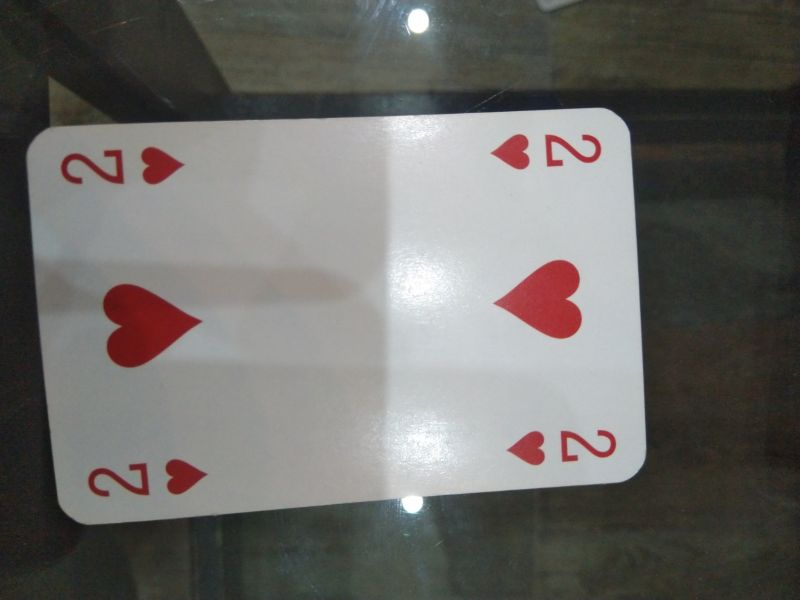2h: (85, 457, 215, 505), (59, 144, 191, 190), (487, 126, 606, 174), (504, 425, 620, 469)
